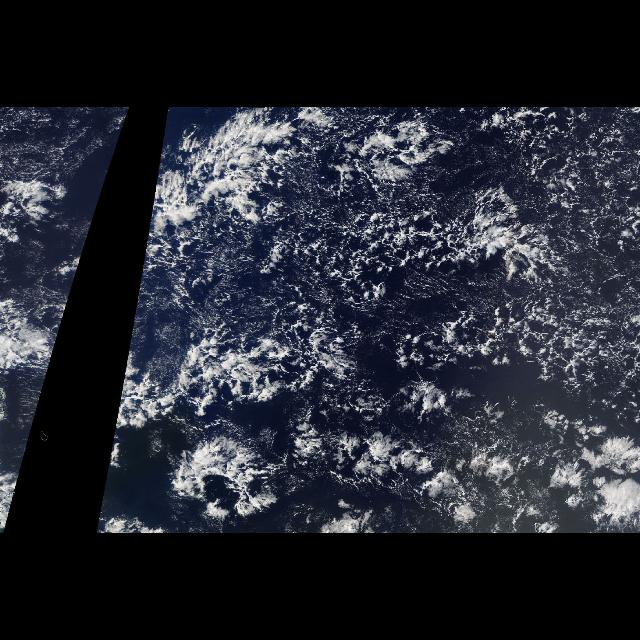Fish: (132, 328, 316, 432), (155, 438, 311, 534)
Gravel: (152, 115, 640, 411)
